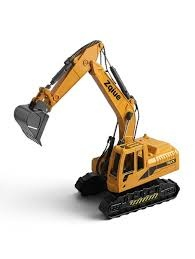excavator: (11, 36, 183, 221)
